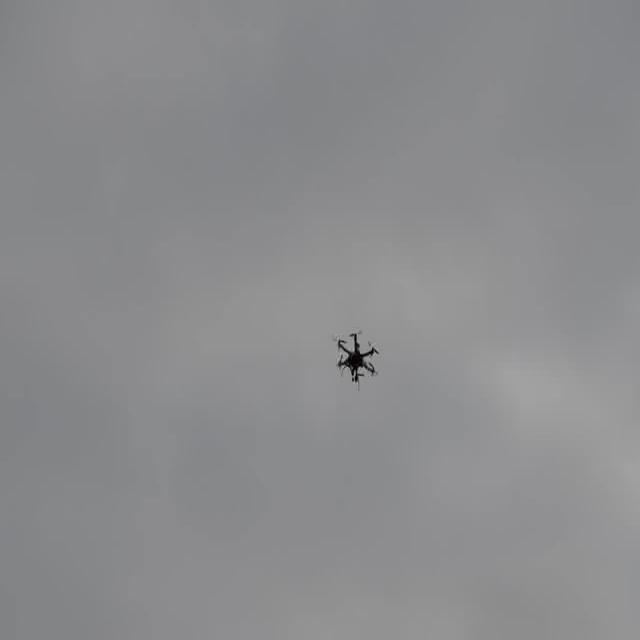Drone_FW: (333, 328, 379, 390)
